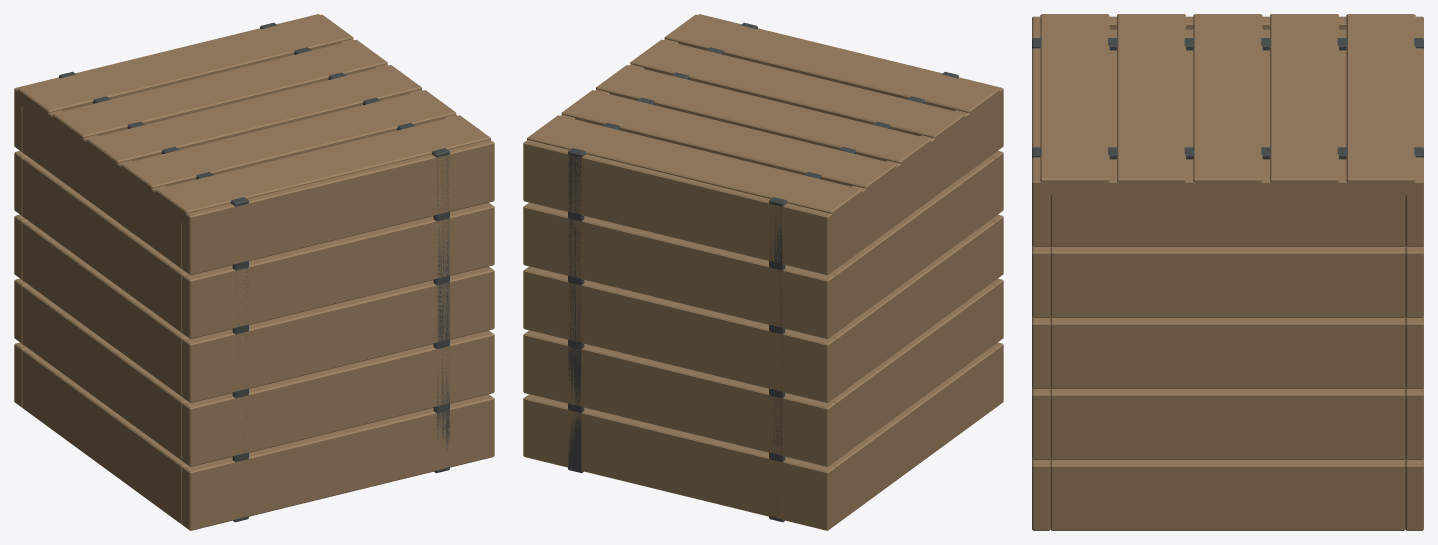
The model's file is SM_LS_Crate.fbx.
The picture shows the model from 3 angles, left to right: view 1: azimuth 30°, elevation 25°; view 2: azimuth 150°, elevation 25°; view 3: azimuth 270°, elevation 25°; orthographic projection. The views are drawn at different scales.
Visible parts, largest first — view 1: SM_LS_Crate; view 2: SM_LS_Crate; view 3: SM_LS_Crate.
Boxes of the visible parts, <box> form: SM_LS_Crate: <box>14,14,494,530</box>; SM_LS_Crate: <box>523,14,1003,530</box>; SM_LS_Crate: <box>1032,14,1423,530</box>.
Size of what is drawn, in the model's own units: 0.85 by 0.85 by 0.85.
